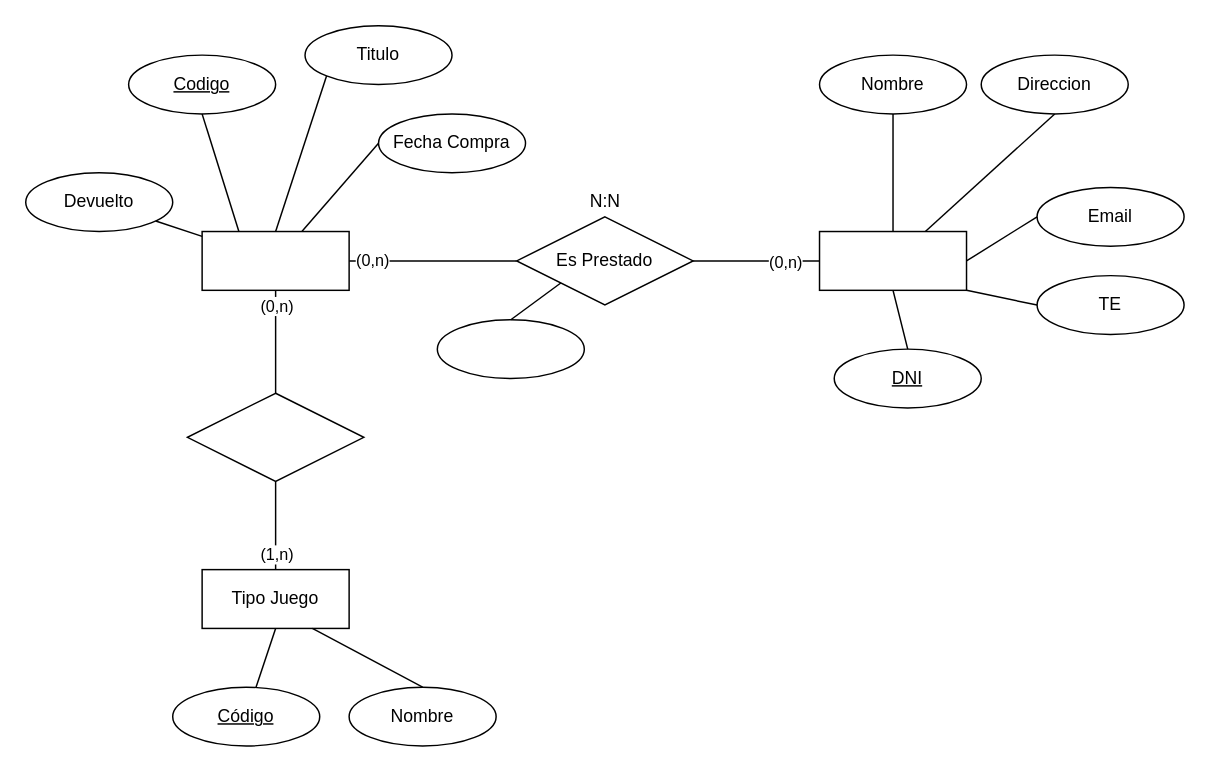
Some shapes in this 1210 by 772 pixel diagram are drawn without their labels. The centre of each missing label's shape, as x and y in pixels:
"Amigo" goes at point 892,260.
"DVD" goes at point 275,260.
"Fecha" goes at point 510,348.
"Pertenece" goes at point 275,436.
